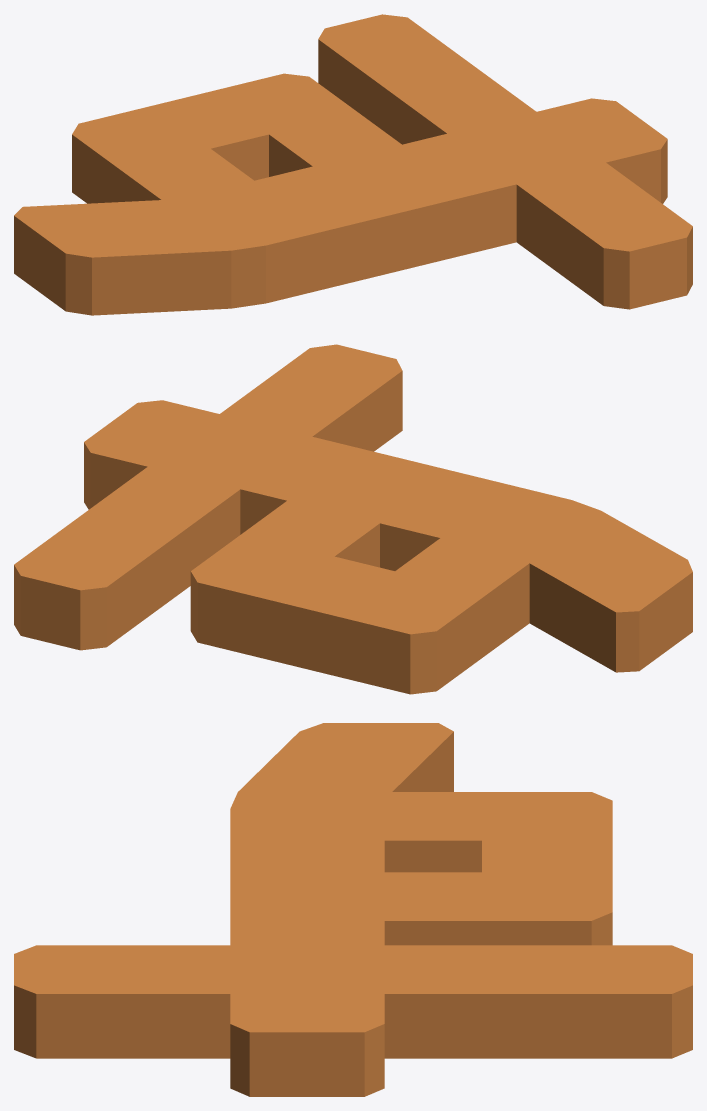
Rendered from Japanese_3D_01_す.FBX.
3 views of the same model, one above another, from view 1: azimuth 30°, elevation 25°; view 2: azimuth 150°, elevation 25°; view 3: azimuth 270°, elevation 25° (orthographic). The views are drawn at different scales.
Visible parts, largest first — view 1: Japanese_3D_01_す; view 2: Japanese_3D_01_す; view 3: Japanese_3D_01_す.
Boxes of the visible parts, <box> form: Japanese_3D_01_す: <box>14,14,692,315</box>; Japanese_3D_01_す: <box>14,344,692,694</box>; Japanese_3D_01_す: <box>14,723,692,1096</box>.
Bounding box in the file's own units: 77.02 × 7.5 × 71.47.
